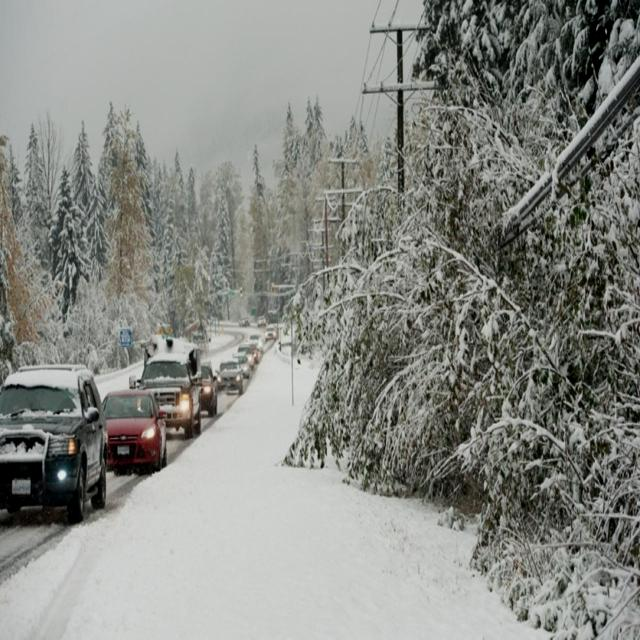Car: (0, 356, 110, 524), (134, 320, 200, 446), (100, 365, 170, 476), (202, 359, 218, 432), (217, 357, 241, 396), (240, 349, 255, 378), (250, 334, 265, 354), (266, 320, 277, 342)
